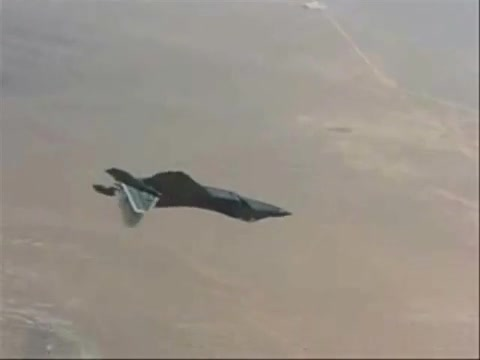aeroplane: (92, 169, 293, 229)
